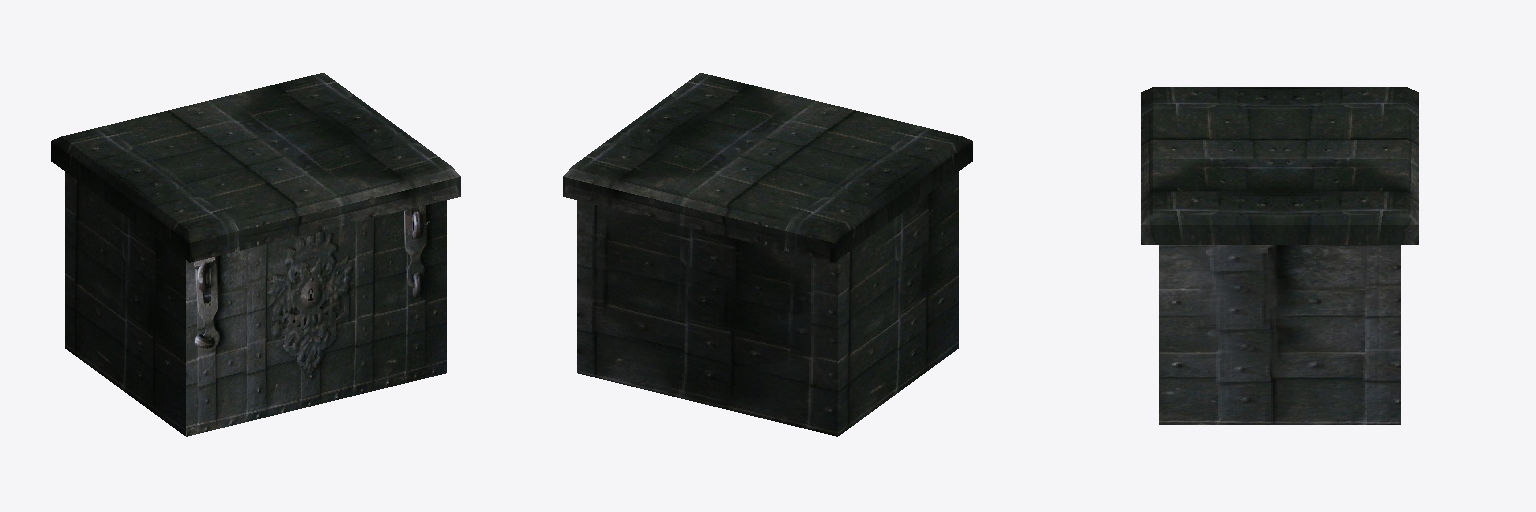
3 renders of one model, left to right at view 1: azimuth 30°, elevation 25°; view 2: azimuth 150°, elevation 25°; view 3: azimuth 270°, elevation 25°, orthographic.
Visible parts, largest first — view 1: Chest2; view 2: Chest2; view 3: Chest2.
Part boxes in pixels (x1,y1,x2,y2): Chest2: (51,73,460,436); Chest2: (563,73,972,436); Chest2: (1141,87,1418,424).
Bounding box in the file's own units: 0.7424 × 0.5484 × 0.6599.
Materials: 1 (1 with a texture image).